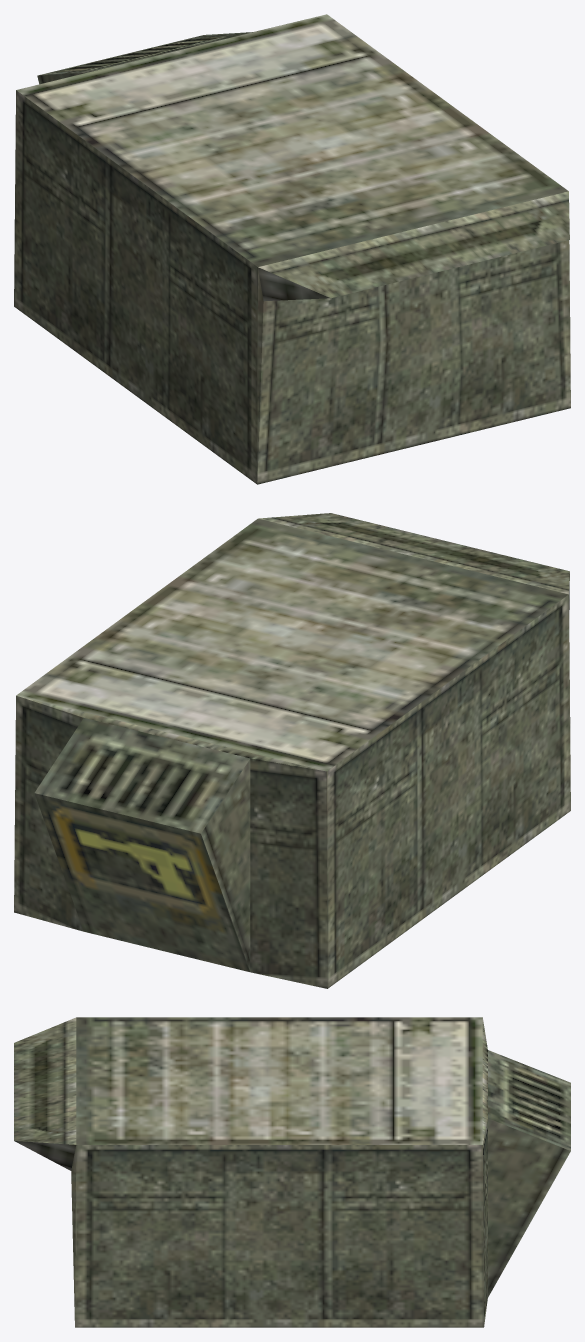
Rendered from con_man_weapons_sm_l1.fbx.
3 views of the same model, one above another, from view 1: azimuth 30°, elevation 25°; view 2: azimuth 150°, elevation 25°; view 3: azimuth 270°, elevation 25° (orthographic). The views are drawn at different scales.
Visible parts, largest first — view 1: mesh_node; view 2: mesh_node; view 3: mesh_node.
Boxes of the visible parts, bbox=[...] form: mesh_node: bbox=[14, 14, 570, 484]; mesh_node: bbox=[14, 513, 570, 988]; mesh_node: bbox=[14, 1017, 570, 1327].
Bounding box in the file's own units: 0.5476 × 0.3615 × 1.
Materials: 1 (1 with a texture image).
